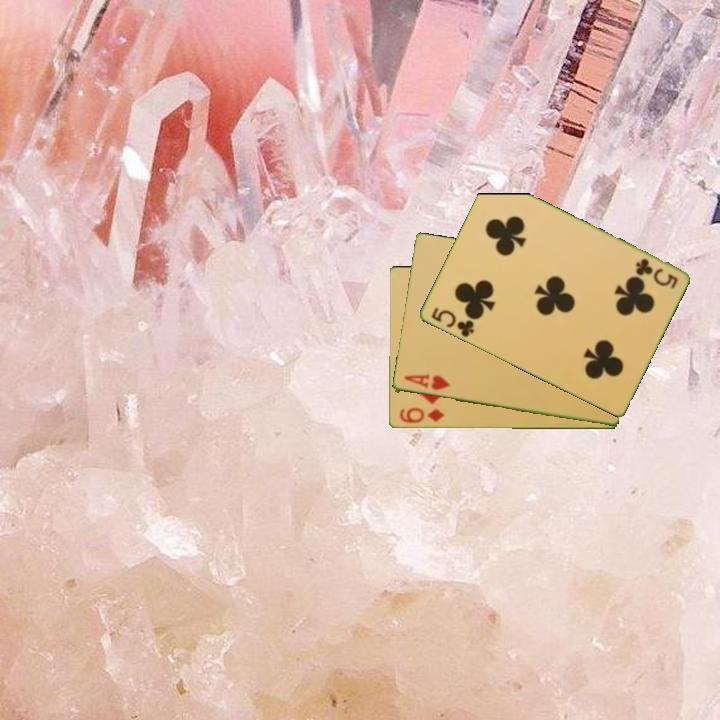5c: (427, 304, 477, 341), (631, 255, 680, 292)
6d: (396, 404, 447, 426)
Ah: (400, 371, 453, 393)
